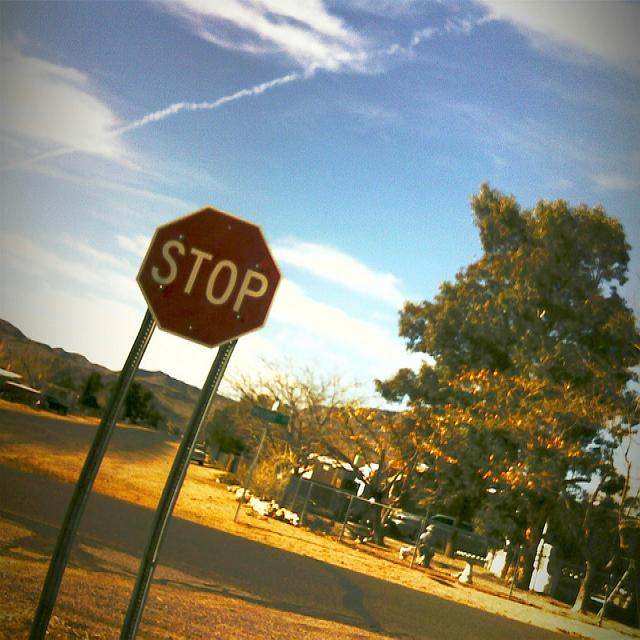Vehicle: (393, 515, 487, 560), (48, 396, 68, 415), (192, 444, 205, 464)
